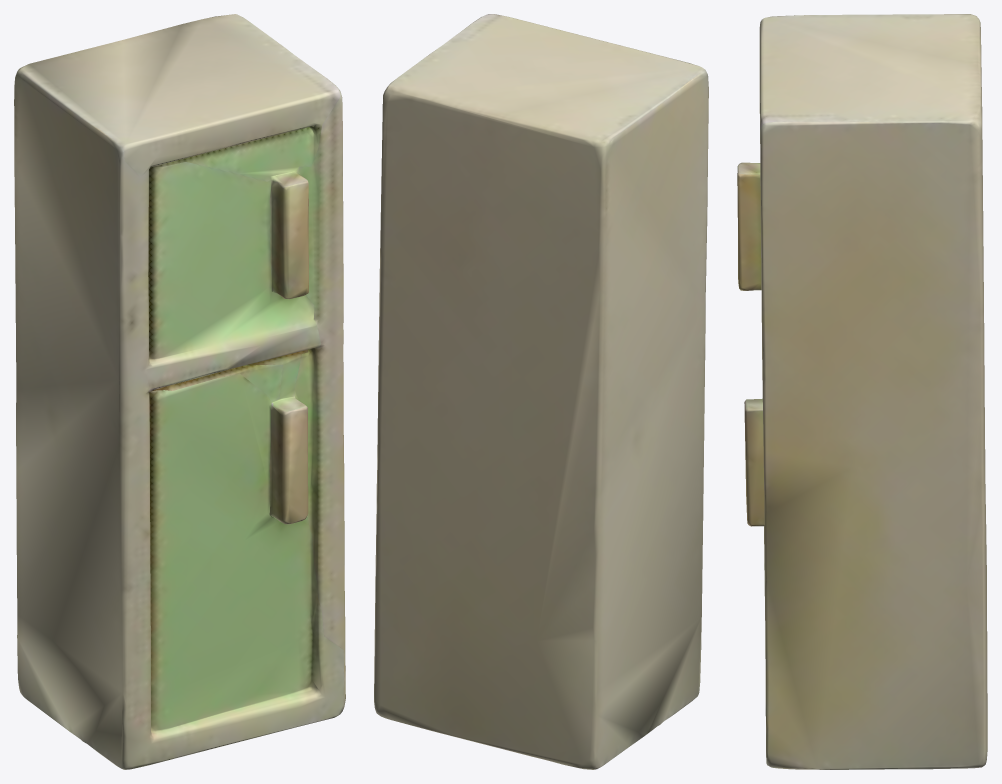
The model's file is 3D_Dollhouse_Refrigerator-high.glb.
3 views of the same model, side by side, from view 1: azimuth 30°, elevation 25°; view 2: azimuth 150°, elevation 25°; view 3: azimuth 270°, elevation 25° (orthographic). The views are drawn at different scales.
Parts seen in each view (by area): view 1: 3D_Dollhouse_Refrigerator; view 2: 3D_Dollhouse_Refrigerator; view 3: 3D_Dollhouse_Refrigerator.
Boxes of the visible parts, x1,y1,x2,y2 form: 3D_Dollhouse_Refrigerator: [14, 14, 345, 769]; 3D_Dollhouse_Refrigerator: [374, 14, 708, 769]; 3D_Dollhouse_Refrigerator: [737, 14, 987, 769].
Size of the model in its own units: 0.0797 by 0.2099 by 0.0733.
Materials: 1 (1 with a texture image).
